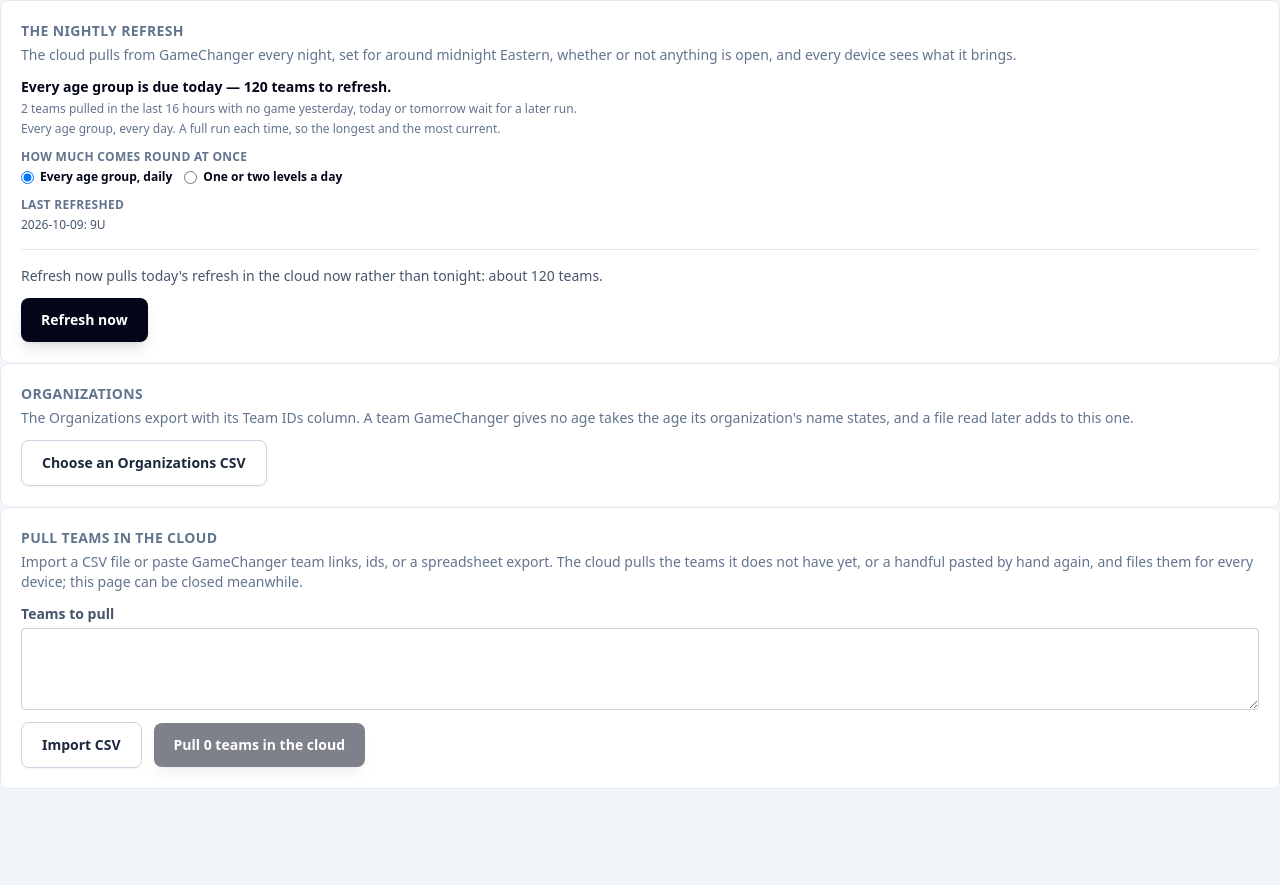
Scenario: Refresh now on the Import tab › shows the refresh another press started rather than starting another
The image size is (1280, 885).
Expected: the text with test id "refresh-offer" is shown, [21,266,603,285]
Click the button "Refresh now".
click(84, 320)  # box [21,298,148,342]
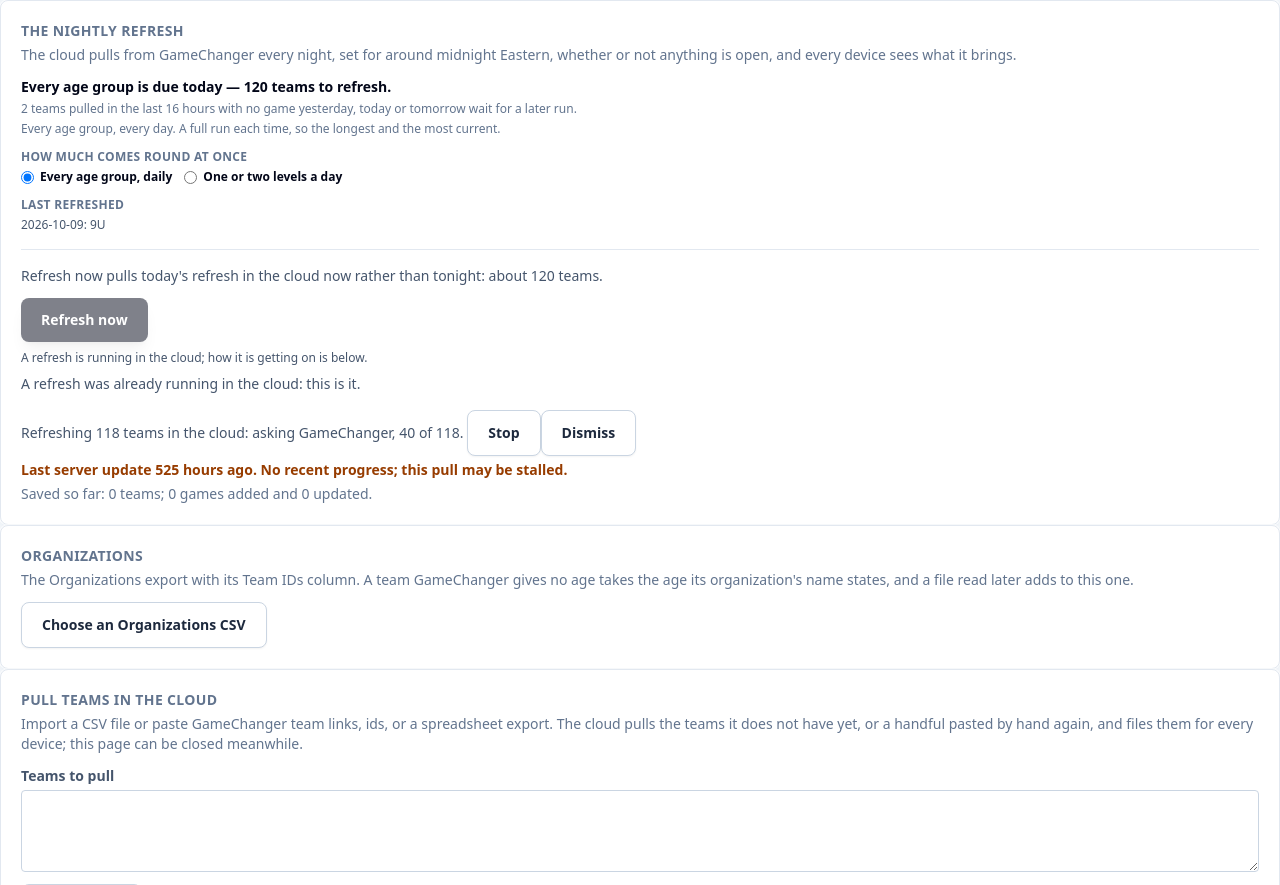
Expected: the text "Refreshing 118 teams in the cloud: asking GameChanger" is shown, [21,423,464,442]
